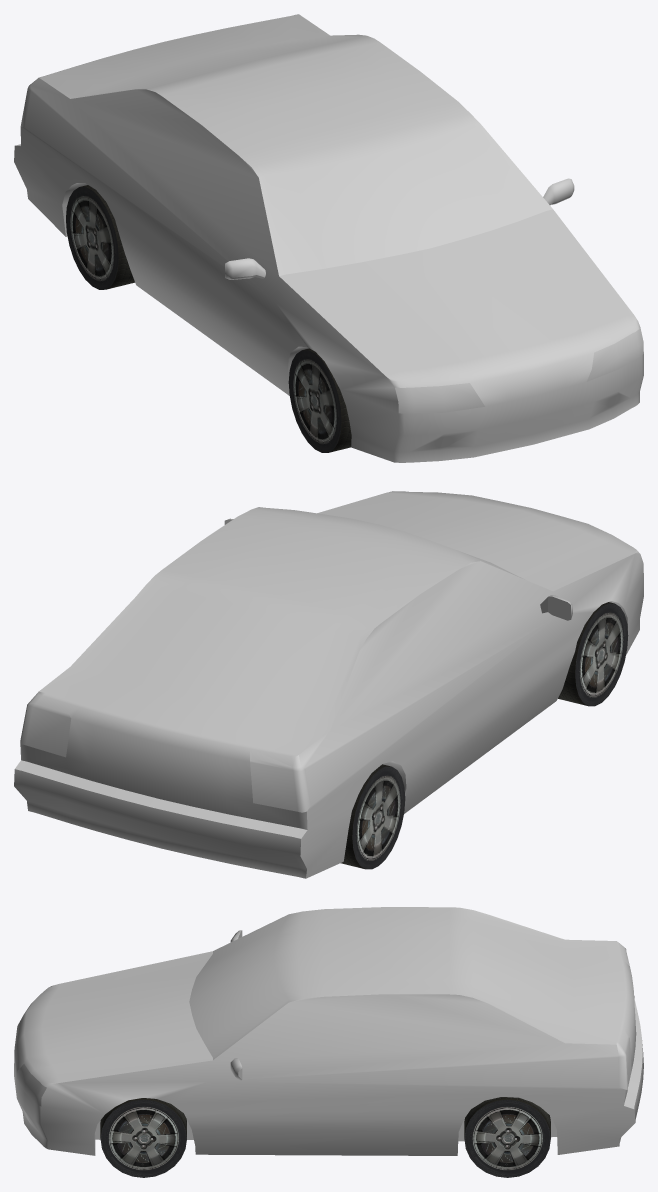
File: Tempra.fbx
3 views of the same model, one above another, from view 1: azimuth 30°, elevation 25°; view 2: azimuth 150°, elevation 25°; view 3: azimuth 270°, elevation 25° (orthographic). The views are drawn at different scales.
Parts seen in each view (by area): view 1: Car, BR, FR, Car ON; view 2: Car, FR, Car ON, BR; view 3: Car, BL, FL, Car ON.
Part boxes in pixels (x1,y1,x2,y2): Car: (14, 14, 643, 462); BR: (66, 185, 134, 289); FR: (288, 348, 351, 452); Car ON: (20, 84, 643, 447); Car: (14, 491, 643, 878); FR: (558, 602, 628, 706); Car ON: (20, 702, 310, 812); BR: (340, 764, 405, 869); Car: (14, 907, 643, 1155); BL: (464, 1097, 550, 1177); FL: (100, 1098, 186, 1177); Car ON: (16, 948, 631, 1121).
Size of the model in its own units: 2.35 by 1.38 by 4.53.
